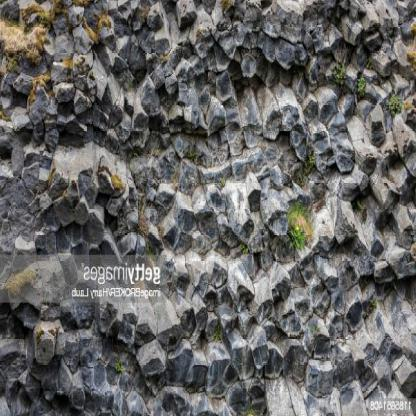Igneous_Basalt: (16, 302, 63, 360), (330, 116, 366, 184), (252, 180, 290, 235), (278, 81, 306, 154), (309, 340, 338, 408), (200, 342, 244, 383), (174, 168, 201, 232), (387, 237, 415, 284), (393, 106, 415, 159), (49, 155, 70, 203), (86, 193, 106, 242), (186, 294, 207, 340), (335, 203, 358, 245), (9, 97, 32, 138), (238, 47, 262, 84), (93, 48, 109, 103), (362, 1, 380, 35), (143, 68, 160, 103)
